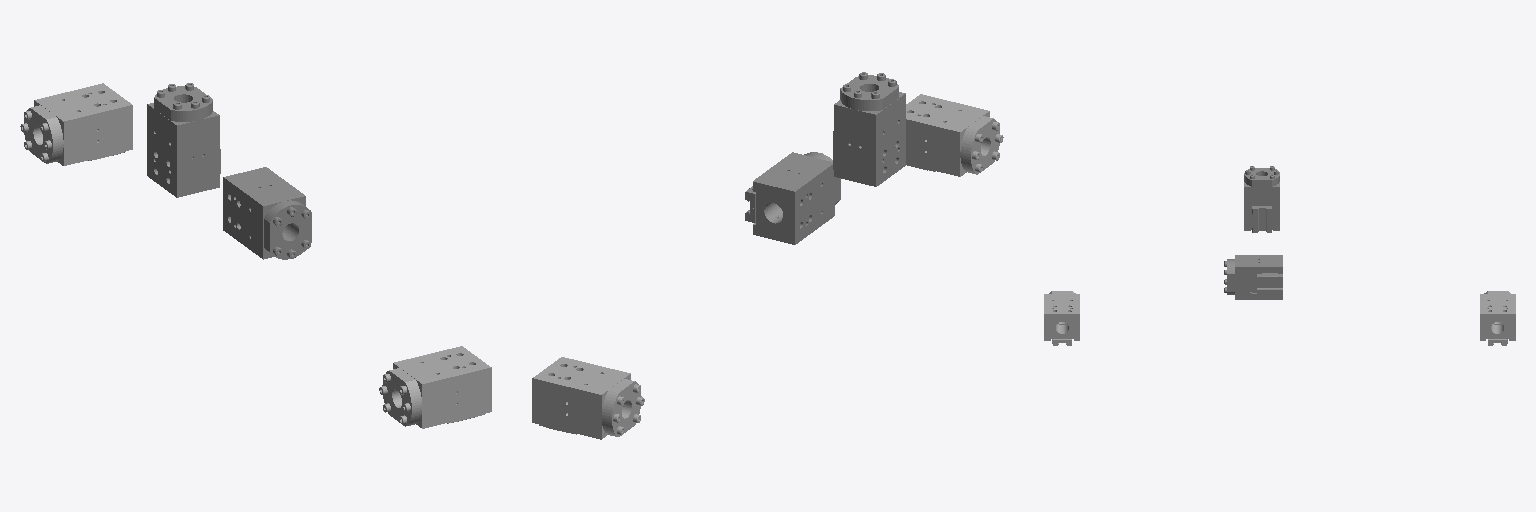
URDF robot description (cartesian_robot):
<?xml version="1.0"?>
<robot name="cartesian_robot">

    <link name="base_link">
    </link>

<!-- X-Axis Track 1 Link -->
    <link name="x_track_1">
        <visual name="x_track_1_visual">
            <geometry>
                <mesh filename="package://motor_control/models/cartesian_robot/meshes/actuator_track.dae" scale="0.001 0.001 0.001"/>
            </geometry>
            <origin rpy="1.571 0 0" xyz="-0.1 0 0.025"/>
            <material name="gray">
                <color rgba="0.7 0.7 0.7 1.0"/>
            </material>
        </visual>
        <inertial>
                <mass value="0.1"/>
                <inertia ixx="0.00083" iyy="0.00083" izz="0.000167" ixy="0" ixz="0" iyz="0"/>
        </inertial>
        <collision>
            <origin rpy="0 0 0" xyz="0 0 0"/>
            <geometry>
                <box size="0.625 0.04 0.02"/>
            </geometry>
        </collision>
    </link>
    
    <gazebo reference="x_track_1">
        <kp>100000.0</kp>
        <kd>100000.0</kd>
        <mu1>0.5</mu1>
        <mu2>0.5</mu2>
    </gazebo>
	
<!-- X-Axis Support 1 Link -->
    <link name="x_support_1">
        <visual name="x_support_1_visual">
            <geometry>
                <mesh filename="package://motor_control/models/cartesian_robot/meshes/actuator_support.dae" scale="0.001 0.001 0.001"/> 
            </geometry>
            <origin rpy="1.571 0 0" xyz="-0.02 0 0"/>
            <material name="gray">
                <color rgba="0.7 0.7 0.7 1.0"/>
            </material>
        </visual>
        <inertial>
                <mass value="0.1"/>
                <inertia ixx="0.00083" iyy="0.00083" izz="0.000167" ixy="0" ixz="0" iyz="0"/>
        </inertial>
        <collision>
            <origin rpy="0 0 0" xyz="0 0 0"/>
            <geometry>
                <box size="0.063 0.047 0.04"/>
            </geometry>
        </collision>
    </link>
    
    <gazebo reference="x_support_1">
        <kp>100000.0</kp>
        <kd>100000.0</kd>
        <mu1>0.5</mu1>
        <mu2>0.5</mu2>
    </gazebo>

<!-- X-Axis Track 2 Link -->
    <link name="x_track_2">
        <visual name="x_track_2_visual">
            <geometry>
                <mesh filename="package://motor_control/models/cartesian_robot/meshes/actuator_track.dae" scale="0.001 0.001 0.001"/>         <!-- Size for X-axis rail -->
            </geometry>
            <origin rpy="1.571 0 0" xyz="-0.1 0 0.025"/>
            <material name="gray">
                <color rgba="0.7 0.7 0.7 1.0"/>
            </material>
        </visual>
        <inertial>
                <mass value="0.1"/>
                <inertia ixx="0.00083" iyy="0.00083" izz="0.000167" ixy="0" ixz="0" iyz="0"/>
        </inertial>
        <collision>
            <origin rpy="0 0 0" xyz="0 0 0"/>
            <geometry>
                <box size="0.625 0.04 0.02"/>
            </geometry>
        </collision>
    </link>
    
    <gazebo reference="x_track_2">
        <kp>100000.0</kp>
        <kd>100000.0</kd>
        <mu1>0.5</mu1>
        <mu2>0.5</mu2>
    </gazebo>

<!-- X-Axis Support 2 Link -->
    <link name="x_support_2">
        <visual name="x_support_2_visual">
            <geometry>
                <mesh filename="package://motor_control/models/cartesian_robot/meshes/actuator_support.dae" scale="0.001 0.001 0.001"/> 
            </geometry>
            <origin rpy="1.571 0 0" xyz="-0.02 0 0"/>
            <material name="gray">
                <color rgba="0.7 0.7 0.7 1.0"/>
            </material>
        </visual>
        <inertial>
                <mass value="0.1"/>
                <inertia ixx="0.00083" iyy="0.00083" izz="0.000167" ixy="0" ixz="0" iyz="0"/>
        </inertial>
        <collision>
            <origin rpy="0 0 0" xyz="0 0 0"/>
            <geometry>
                <box size="0.063 0.047 0.04"/>
            </geometry>
        </collision>
    </link>
    
    <gazebo reference="x_support_2">
        <kp>100000.0</kp>
        <kd>100000.0</kd>
        <mu1>0.5</mu1>
        <mu2>0.5</mu2>
    </gazebo>

<!-- Y-Axis Link -->
    <link name="y_track">
        <visual name="y_track_visual">
            <geometry>
                <mesh filename="package://motor_control/models/cartesian_robot/meshes/actuator_track.dae" scale="0.001 0.001 0.001"/>
            </geometry>
            <origin rpy="0 0 1.571" xyz="-0.025 -0.09 0"/>
            <material name="gray">
                <color rgba="0.6 0.6 0.6 1.0"/>
            </material>
        </visual>
        <inertial>
                <mass value="0.1"/>
                <inertia ixx="0.00083" iyy="0.00083" izz="0.000167" ixy="0" ixz="0" iyz="0"/>
        </inertial>
        <collision>
            <origin rpy="0 0 0" xyz="0 0 0"/>
            <geometry>
                <box size="0.02 0.625 0.04"/>
            </geometry>
        </collision>
    </link>
    
    <gazebo reference="y_track">
        <kp>100000.0</kp>
        <kd>100000.0</kd>
        <mu1>0.5</mu1>
        <mu2>0.5</mu2>
    </gazebo>

<!-- Y-Axis Support Link -->
    <link name="y_support">
        <visual>
            <geometry>
                <mesh filename="package://motor_control/models/cartesian_robot/meshes/actuator_support.dae" scale="0.001 0.001 0.001"/> 
            </geometry>
            <origin rpy="0 0 1.571" xyz="0 0 0"/>
            <material name="gray">
                <color rgba="0.6 0.6 0.6 1.0"/>
            </material>
        </visual>
        <inertial>
                <mass value="0.1"/>
                <inertia ixx="0.00083" iyy="0.00083" izz="0.000167" ixy="0" ixz="0" iyz="0"/>
        </inertial>
        <collision>
            <origin rpy="0 0 0" xyz="0 0 0"/>
            <geometry>
                <box size="0.04 0.063 0.047"/>
            </geometry>
        </collision>
    </link>
    
    <gazebo reference="y_support">
        <kp>100000.0</kp>
        <kd>100000.0</kd>
        <mu1>0.5</mu1>
        <mu2>0.5</mu2>
    </gazebo>

<!-- Z-Axis Link -->
    <link name="z_track">
        <visual>
            <geometry>
                <mesh filename="package://motor_control/models/cartesian_robot/meshes/actuator_track.dae" scale="0.001 0.001 0.001"/>
            </geometry>
            <origin rpy="-1.571 1.571 0" xyz="-0.02 0.02 0.22"/>
            <material name="gray">
                <color rgba="0.5 0.5 0.5 1.0"/>
            </material>
        </visual>
        <inertial>
                <mass value="0.1"/>
                <inertia ixx="0.00083" iyy="0.00083" izz="0.000167" ixy="0" ixz="0" iyz="0"/>
        </inertial>
        <collision>
            <origin rpy="0 0 0" xyz="0 0 0"/>
            <geometry>
                <box size="0.02 0.04 0.325"/>
            </geometry>
        </collision>
    </link>
    
    <gazebo reference="z_track">
        <kp>100000.0</kp>
        <kd>100000.0</kd>
        <mu1>0.5</mu1>
        <mu2>0.5</mu2>
    </gazebo>

<!-- Z-Axis Support Link -->
    <link name="z_support">
        <visual>
            <geometry>
                <mesh filename="package://motor_control/models/cartesian_robot/meshes/actuator_support.dae" scale="0.001 0.001 0.001"/> 
            </geometry>
            <origin rpy="1.571 1.571 3.142" xyz="0.004 0.02 0"/>
            <material name="gray">
                <color rgba="0.6 0.6 0.6 1.0"/>
            </material>
        </visual>
        <inertial>
                <mass value="0.1"/>
                <inertia ixx="0.00083" iyy="0.00083" izz="0.000167" ixy="0" ixz="0" iyz="0"/>
        </inertial>
        <collision>
            <origin rpy="0 0 0" xyz="0 0 0"/>
            <geometry>
                <box size="0.04 0.047 0.063"/>
            </geometry>
        </collision>
    </link>
    
    <gazebo reference="z_support">
        <kp>100000.0</kp>
        <kd>100000.0</kd>
        <mu1>0.5</mu1>
        <mu2>0.5</mu2>
    </gazebo>

<!-- Fixed Joint between X-Axis Track 1 and Base Link -->
    <joint name="x1Base" type="fixed">
        <parent link="base_link"/>
        <child link="x_track_1"/>
        <origin xyz="-0.3125 0 0.01" rpy="0 0 0"/>
    </joint>

<!-- Fixed Joint between X-Axis Track 2 and Base Link -->
    <joint name="x2Base" type="fixed">
        <parent link="base_link"/>
        <child link="x_track_2"/>
        <origin xyz="-0.3125 0.585 0.01" rpy="0 0 0"/>
    </joint>

<!-- Fixed Joint between X-Axis Support 1 and X-Axis Support 2 -->
    <joint name="xSupportFixed" type="fixed">
        <parent link="x_support_1"/>
        <child link="x_support_2"/>
        <origin xyz="0 0.585 0" rpy="0 0 0"/>
    </joint>

<!-- Prismatic Joint between X-Axis Track 1 and X-Axis Support 1 -->
    <joint name="xPrismatic1" type="prismatic">
        <parent link="x_track_1"/>
        <child link="x_support_1"/>
        <origin xyz="0.2815 0 0.038" rpy="0 0 0"/>
        <axis xyz="1 0 0"/>
        <limit lower="-0.478" upper="-0.015" effort="100" velocity="1"/>
        <dynamics friction="0.2"/>
    </joint>

<!-- Fixed Joint between Y-axis and X-axis Support 1 -->
    <joint name="x1yFixed" type="fixed">
        <parent link="x_support_1"/>
        <child link="y_track"/>
        <origin xyz="0.017 0.2925 0.051" rpy="0 0 0"/>
    </joint>

<!-- Fixed Joint between Y-axis and X-axis Support 2 
    <joint name="x2yFixed" type="fixed">
        <parent link="x_support_2"/>
        <child link="y_track"/>
        <origin xyz="0.017 -0.2925 0.051" rpy="0 0 0"/>
    </joint> -->

<!-- Prismatic Joint between Y-Axis and Y-Axis Support -->
    <joint name="yPrismatic" type="prismatic">
        <parent link="y_track"/>
        <child link="y_support"/>
        <origin xyz="-0.038 -0.2425 0" rpy="0 0 0"/>
        <axis xyz="0 1 0"/>
        <limit lower="0.01" upper="0.387" effort="100" velocity="1"/>
        <dynamics friction="0.2"/>
    </joint>

<!-- Fixed Joint between Z-axis and Y-axis Support -->
    <joint name="yzFixed" type="fixed">
        <parent link="y_support"/>
        <child link="z_track"/>
        <origin xyz="-0.04 0.000 0.1275" rpy="0 0 0"/>
    </joint>

<!-- Prismatic Joint between Z-Axis and Z-Axis Support -->
    <joint name="zPrismatic" type="prismatic">
        <parent link="z_track"/>
        <child link="z_support"/>
        <origin xyz="-0.038 0 -0.1310" rpy="0 0 0"/>
        <axis xyz="0 0 1"/>
        <limit lower="0.003" upper="0.188" effort="100" velocity="1"/>
        <dynamics friction="0.2"/>
    </joint>

</robot>

--- Facts derived from the render (not from the file) ---
Views: 3 orthographic renders of the robot side by side, from view 1: azimuth 30°, elevation 25°; view 2: azimuth 150°, elevation 25°; view 3: azimuth 270°, elevation 25°.
Model cartesian_robot with 9 links and 8 joints (3 prismatic, 5 fixed), rooted at base_link, posed all joints at 0 but 3 set to mid-range because 0 is outside their limits (xPrismatic1 = -0.2465, yPrismatic = 0.1985, zPrismatic = 0.0955).
Visible links, largest first — view 1: z_support, x_support_1, x_support_2, y_support; view 2: z_support, x_support_2, y_support, x_support_1; view 3: y_support, z_support, x_support_1, x_support_2.
Boxes of the visible links, bbox=[...] form: z_support: bbox=[147, 83, 220, 197]; x_support_1: bbox=[379, 346, 491, 428]; x_support_2: bbox=[20, 83, 132, 165]; y_support: bbox=[223, 167, 311, 259]; z_support: bbox=[833, 72, 905, 186]; x_support_2: bbox=[532, 357, 644, 439]; y_support: bbox=[745, 152, 840, 244]; x_support_1: bbox=[906, 94, 1003, 176]; y_support: bbox=[1224, 255, 1282, 299]; z_support: bbox=[1244, 166, 1279, 232]; x_support_1: bbox=[1044, 291, 1079, 345]; x_support_2: bbox=[1480, 291, 1515, 345].
Bounding box of the posed robot: 0.1411 × 0.633 × 0.2031 m (x, y, z).
Meshes: 2 distinct files referenced, 4 mesh visuals loaded (1 Collada DAE); not drawn: 4 (reference not matched to a file when rendering).